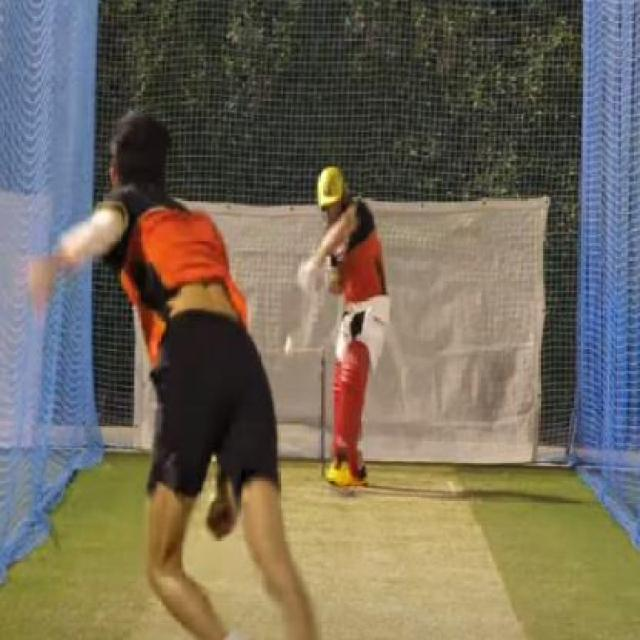ball: (278, 331, 300, 363)
